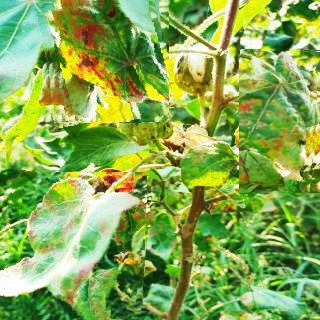blight: (0, 172, 148, 318), (42, 0, 169, 122), (239, 49, 320, 193)
